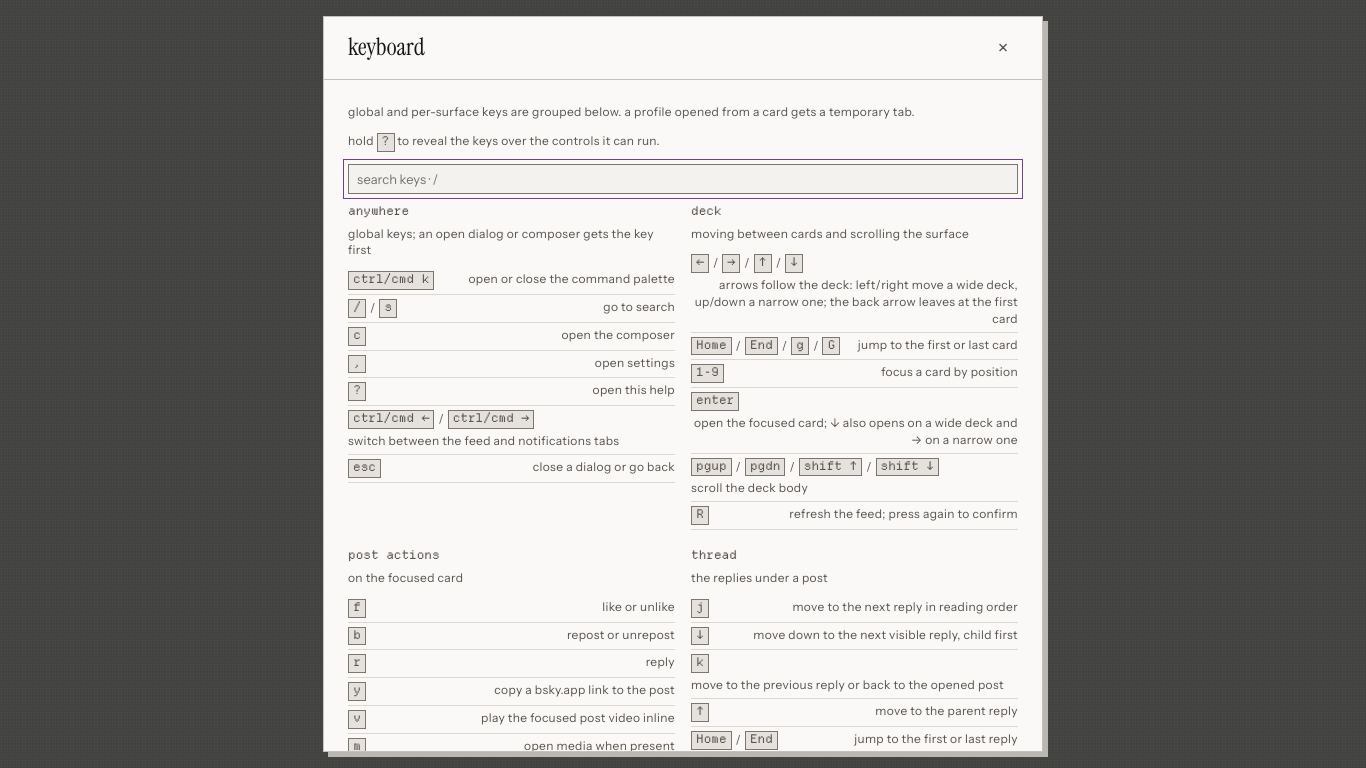
Test case: HelpDialog › matches every query token in any order across a section and its rows
# two words, reversed relative to the label: both must occur
Type "unrepost repost" into the search field named "search keybindings". click: (683, 179)
box: x1=348 y1=164 x2=1018 y2=194
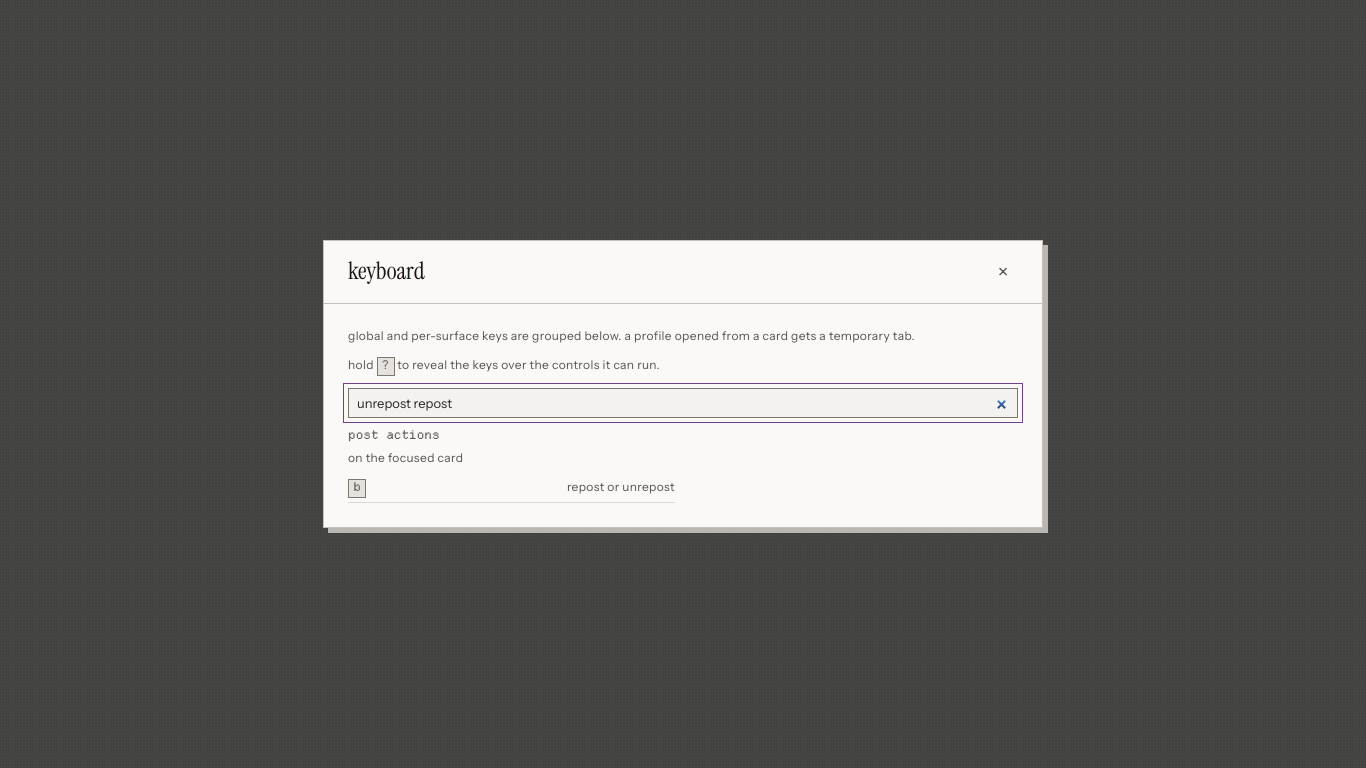
Expected: the text "repost or unrepost" is shown, x1=567 y1=479 x2=675 y2=496
Expected: the text "like or unlike" is gone
# one token comes from the scope title, the other from the row
Replace the text in the search field named "search keybindings" with "anywhere settings". click: (683, 403)
box: x1=348 y1=388 x2=1018 y2=418
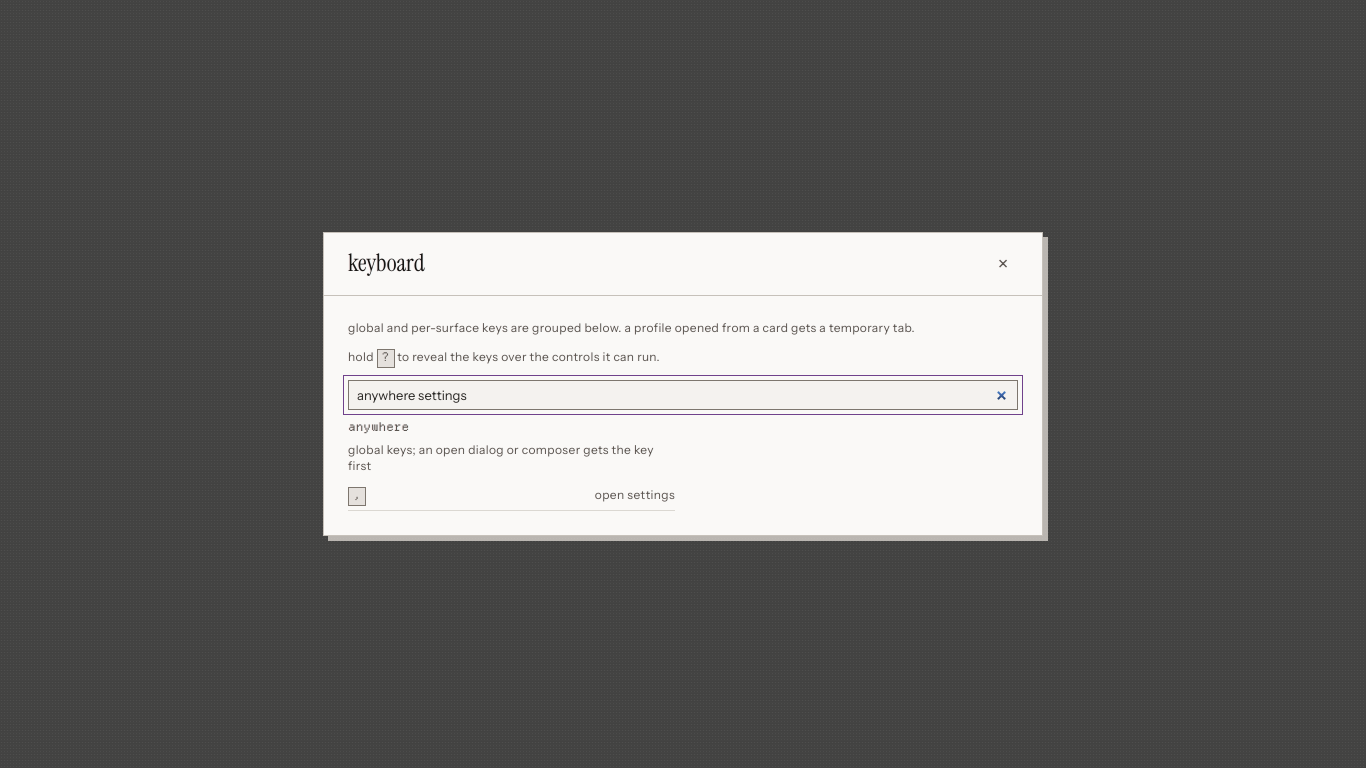
Expected: the text "open this help" is not shown
Expected: the text "open settings" is shown, x1=595 y1=487 x2=675 y2=504
# a token that is a prefix of nothing in the row still excludes it: no fuzzy
Replace the text in the search field named "search keybindings" with "unrepost setts". click: (683, 395)
box: x1=348 y1=380 x2=1018 y2=410
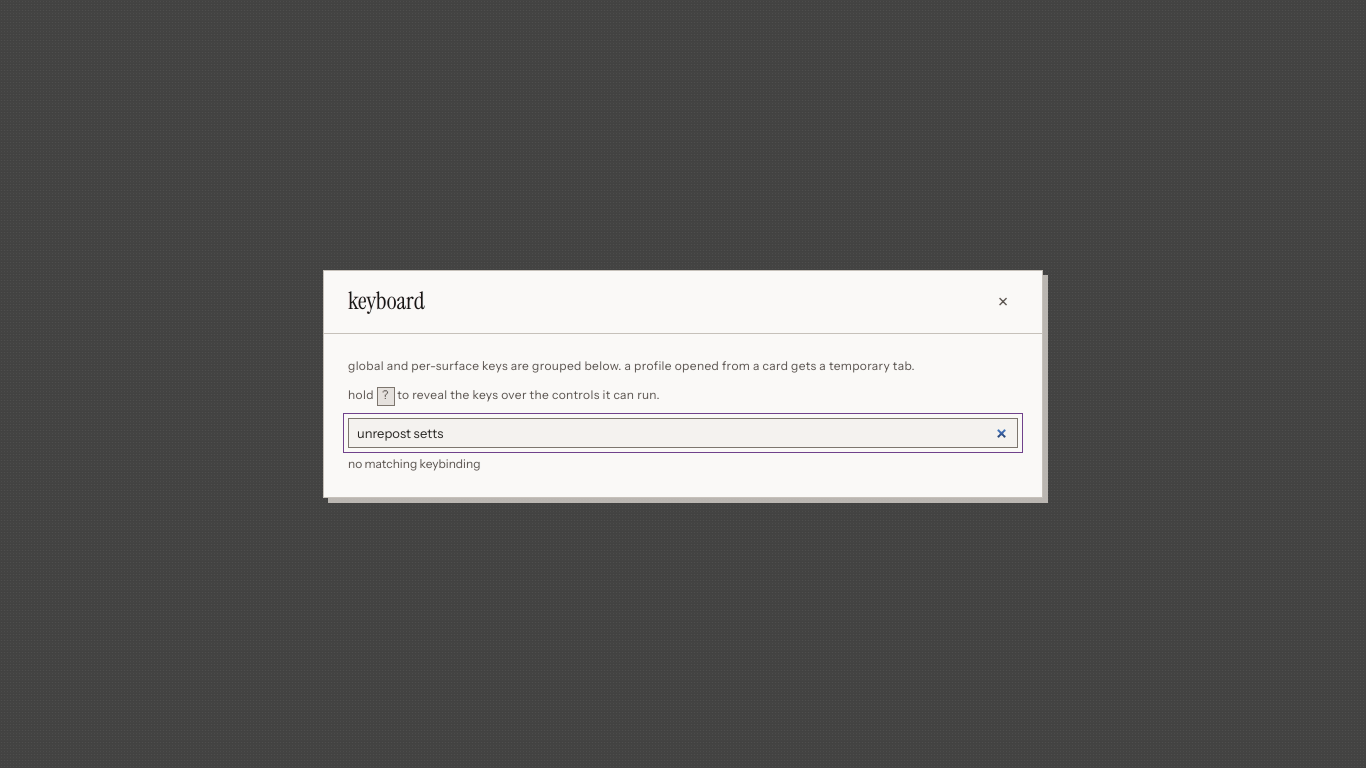
Expected: the text "no matching keybinding" is shown, x1=348 y1=456 x2=480 y2=471
